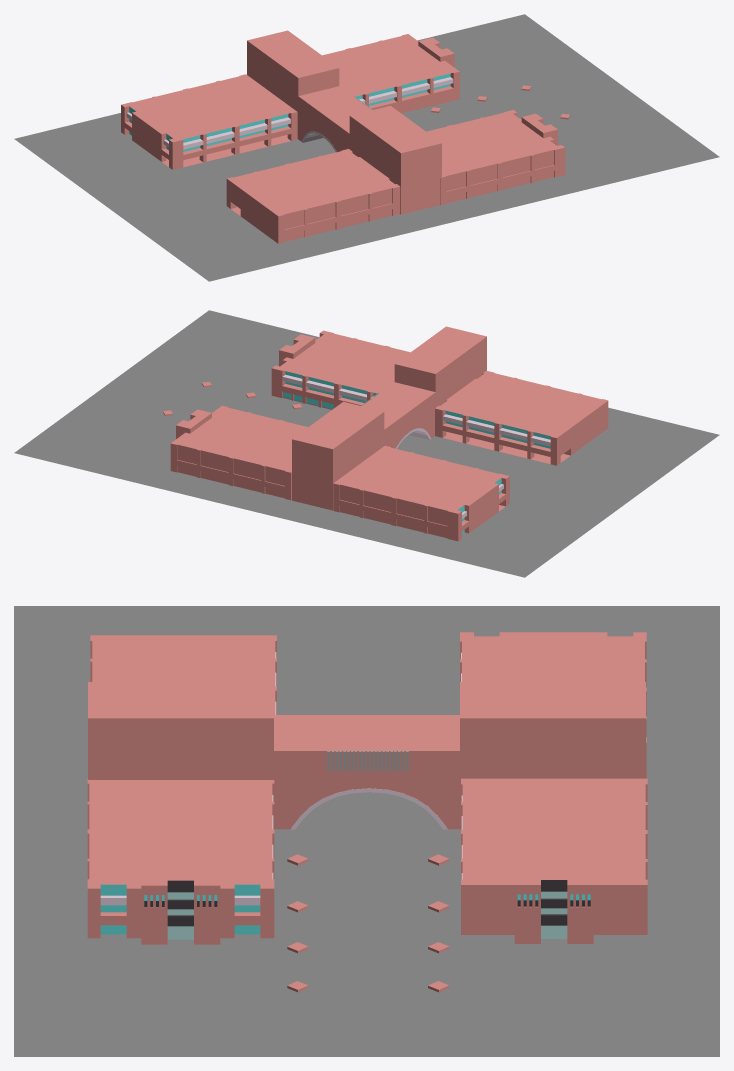
File: INICIO_F.fbx
3 views of the same model, one above another, from view 1: azimuth 30°, elevation 25°; view 2: azimuth 150°, elevation 25°; view 3: azimuth 270°, elevation 25° (orthographic). The views are drawn at different scales.
Parts seen in each view (by area): view 1: Cubo.032; view 2: Cubo.032; view 3: Cubo.032.
Boxes of the visible parts, <box> form: Cubo.032: <box>14,14,719,281</box>; Cubo.032: <box>14,310,719,577</box>; Cubo.032: <box>14,606,719,1056</box>.
Bounding box in the file's own units: 11532 × 1582 × 7630.
